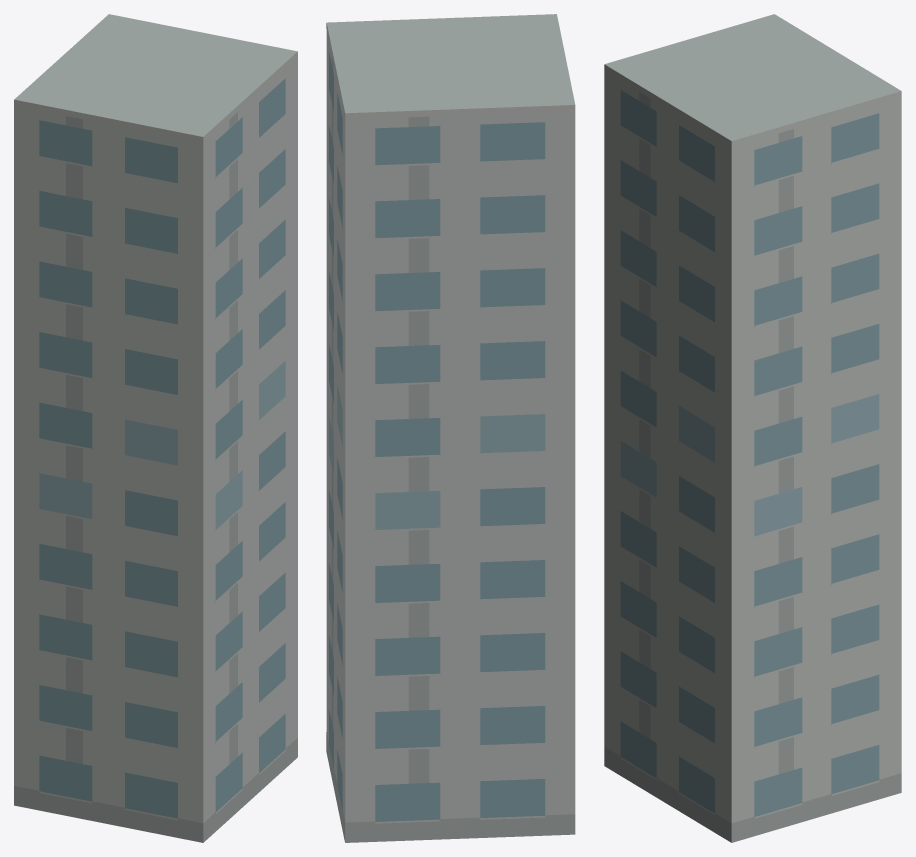
Rendered from residential-d3aba936-4ceb-4e48-a91e-a62929ac4c70.glb.
3 views of the same model, side by side, from view 1: azimuth 30°, elevation 25°; view 2: azimuth 150°, elevation 25°; view 3: azimuth 270°, elevation 25° (orthographic). The views are drawn at different scales.
Parts seen in each view (by area): view 1: residential-d3aba936-4ceb-4e48-a91e-a62929ac4c70.tmp; view 2: residential-d3aba936-4ceb-4e48-a91e-a62929ac4c70.tmp; view 3: residential-d3aba936-4ceb-4e48-a91e-a62929ac4c70.tmp.
Part boxes in pixels (left/top/right/bottom): residential-d3aba936-4ceb-4e48-a91e-a62929ac4c70.tmp: left=14, top=14, right=297, bottom=842; residential-d3aba936-4ceb-4e48-a91e-a62929ac4c70.tmp: left=326, top=14, right=575, bottom=842; residential-d3aba936-4ceb-4e48-a91e-a62929ac4c70.tmp: left=604, top=14, right=901, bottom=842.
Size of the model in its own units: 10.89 by 28 by 10.76.
